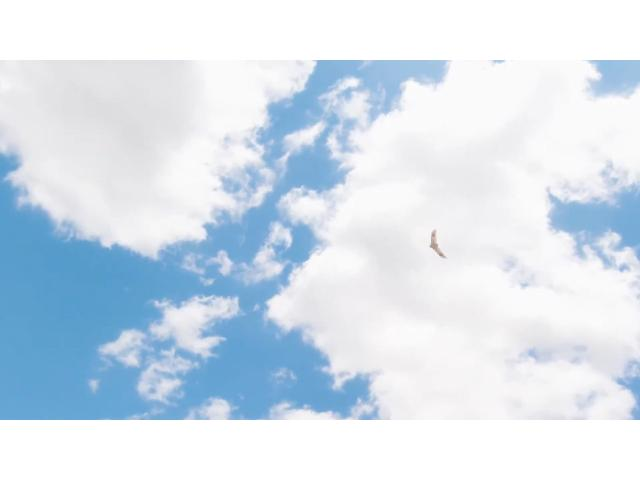Anti-Drone: (420, 224, 464, 262)
